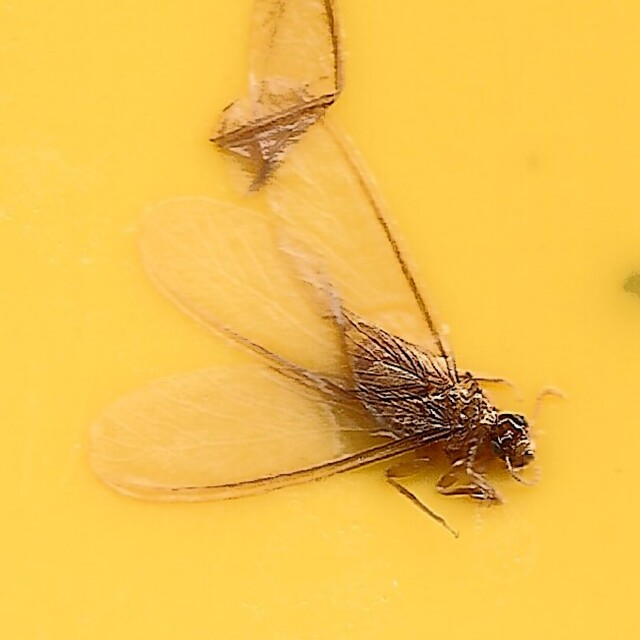Isoptera: (94, 102, 546, 538)
